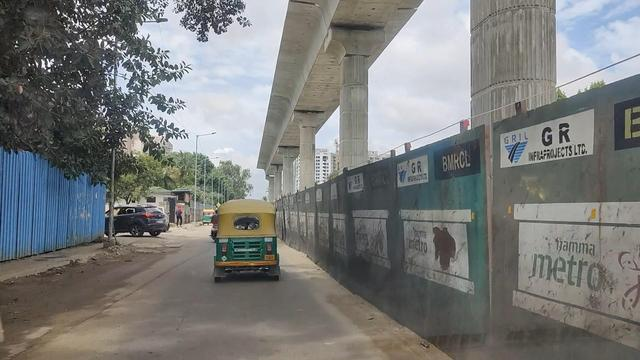LMV: (210, 197, 285, 282)
RoadDamages: (129, 235, 184, 260)
UnsurfacedRoad: (11, 276, 126, 342)
